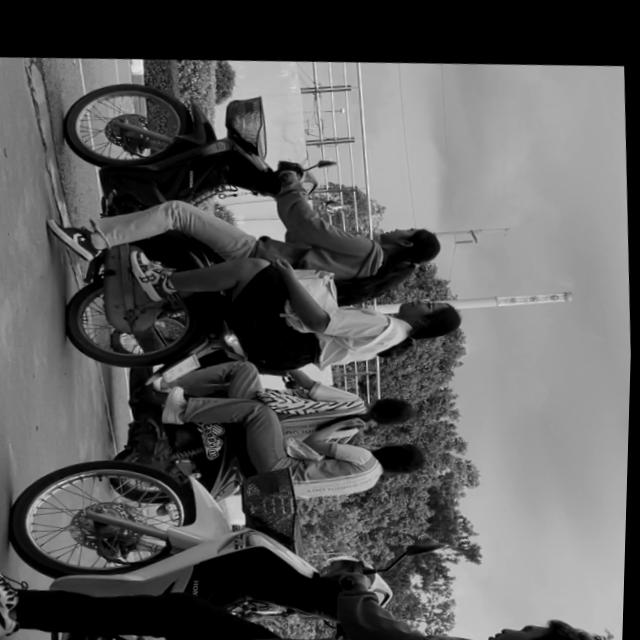seatbelt: (484, 604, 604, 640), (397, 288, 464, 336), (378, 217, 443, 266), (374, 432, 431, 472), (368, 387, 421, 423)
